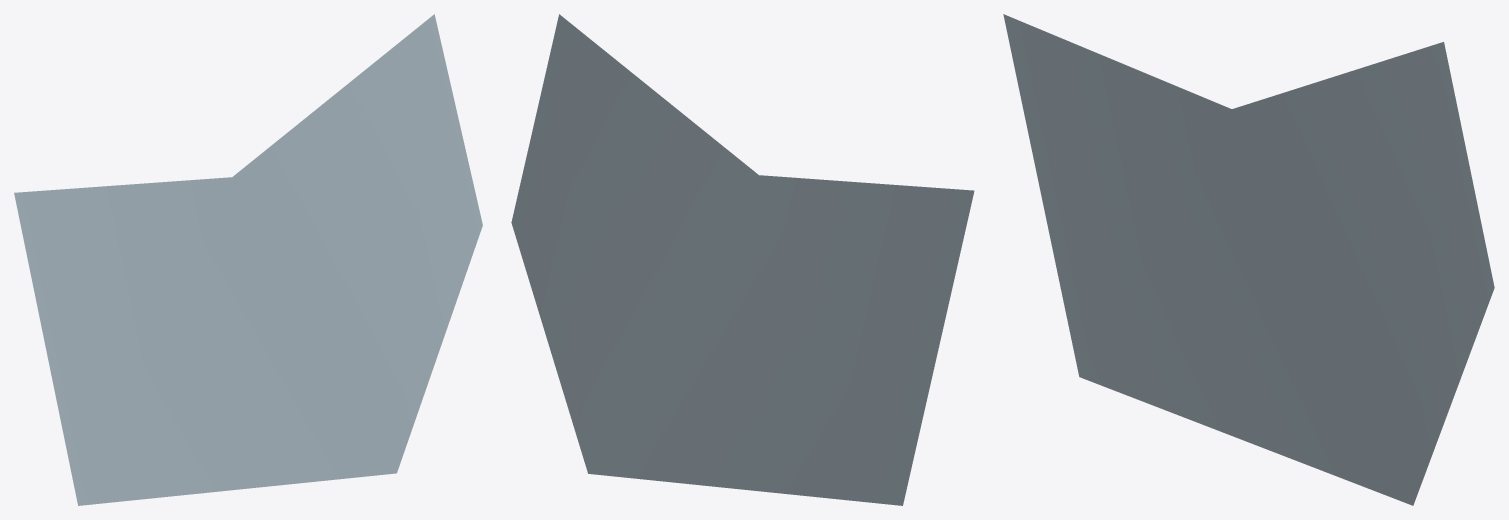
The picture shows the model from 3 angles, left to right: view 1: azimuth 30°, elevation 25°; view 2: azimuth 150°, elevation 25°; view 3: azimuth 330°, elevation 25°; orthographic projection. The views are drawn at different scales.
Visible parts, largest first — view 1: pCube33; view 2: pCube33; view 3: pCube33.
Boxes of the visible parts, x1,y1,x2,y2 form: pCube33: (14, 14, 482, 505); pCube33: (511, 14, 974, 505); pCube33: (1003, 14, 1494, 505).
Bounding box in the file's own units: 46.8 × 43.33 × 0.7258.
